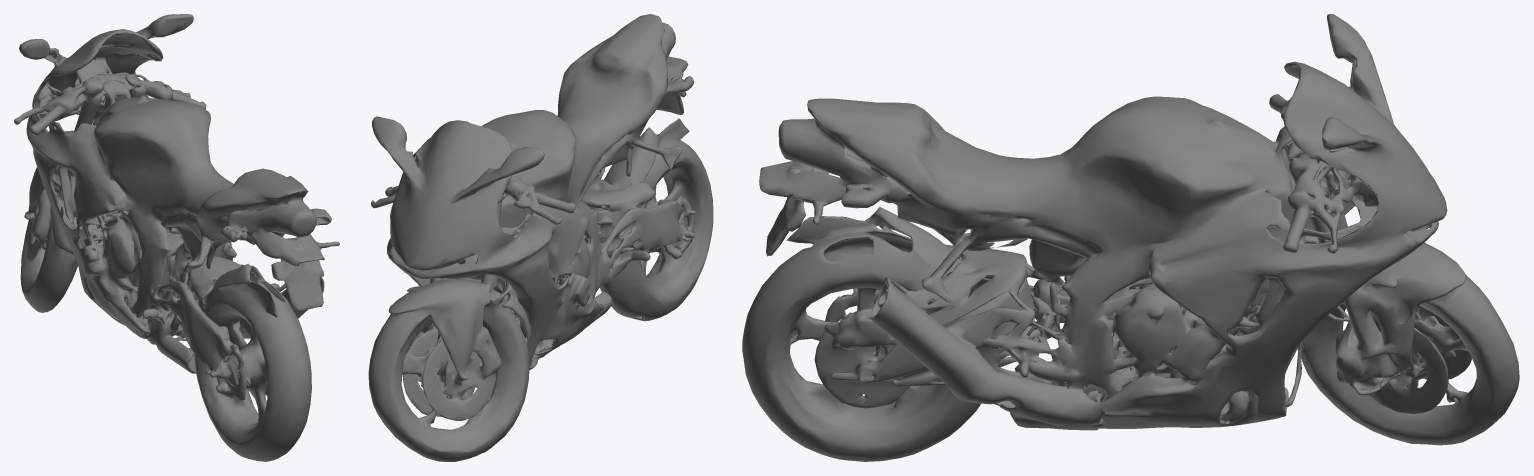
File: motorcycle.glb
3 renders of one model, left to right at view 1: azimuth 30°, elevation 25°; view 2: azimuth 150°, elevation 25°; view 3: azimuth 270°, elevation 25°, orthographic. The views are drawn at different scales.
Visible parts, largest first — view 1: world; view 2: world; view 3: world.
Part boxes in pixels (x1,y1,x2,y2): world: [14, 14, 339, 461]; world: [368, 14, 713, 461]; world: [742, 14, 1519, 461].
Bounding box in the file's own units: 0.3702 × 0.5749 × 1.
1 material, 1 textured.
